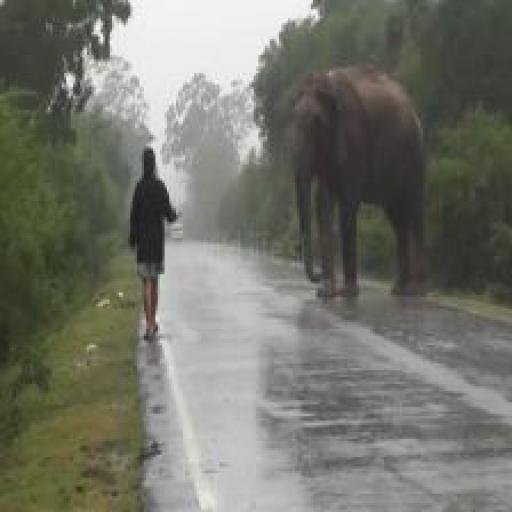Elephant: (288, 59, 443, 311)
